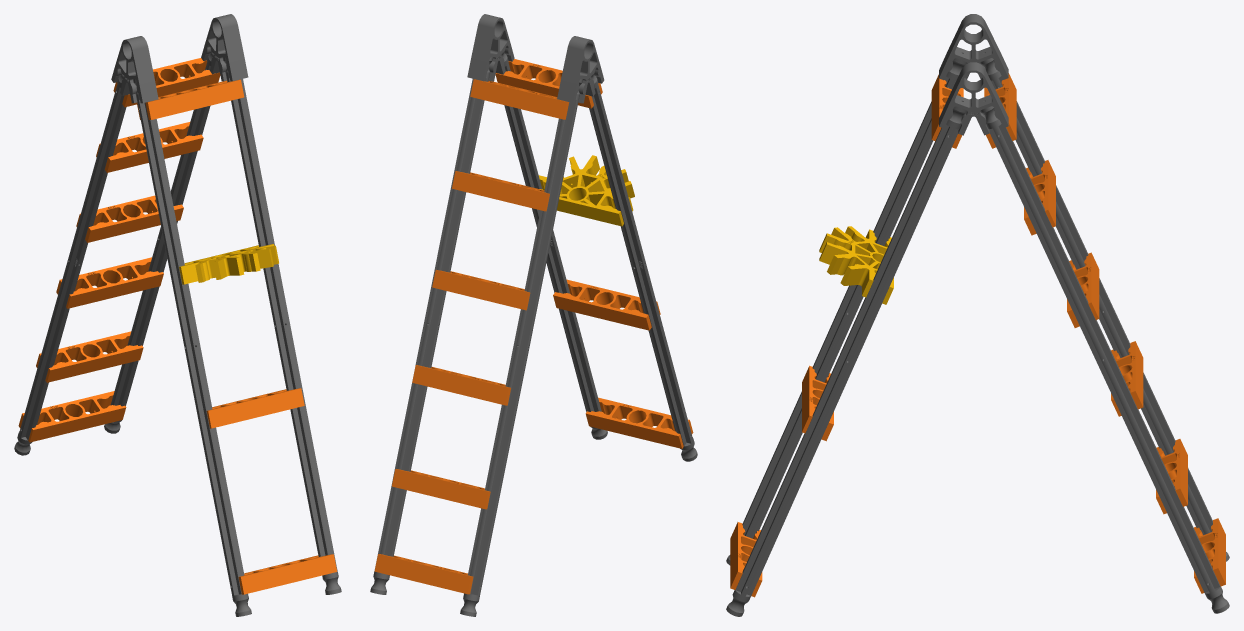
3 views of the same model, side by side, from view 1: azimuth 30°, elevation 25°; view 2: azimuth 150°, elevation 25°; view 3: azimuth 270°, elevation 25° (orthographic). The views are drawn at different scales.
Visible parts, largest first — view 1: Untitled.1494, Untitled.1496, Untitled.1493, Untitled.1495, Untitled.1490, Untitled.1491, Untitled.1492, Untitled.1497, Untitled.1500, Untitled.1501, Untitled.1498, Untitled.1503 (+4 smaller); view 2: Untitled.1493, Untitled.1495, Untitled.1494, Untitled.1496, Untitled.1497, transform1.008, Untitled.1489, Untitled.1498, Untitled.1503, Untitled.1490, Untitled.1492, Untitled.1491 (+4 smaller); view 3: Untitled.1496, Untitled.1495, Untitled.1494, Untitled.1493, Untitled.1497, Untitled.1498, Untitled.1503, Untitled.1492, Untitled.1490, Untitled.1491, Untitled.1489, Untitled.1500 (+4 smaller).
Boxes of the visible parts, box(x1,y1,x2,y2) form: Untitled.1494: box(132, 79, 251, 616); Untitled.1496: box(222, 57, 341, 594); Untitled.1493: box(14, 70, 126, 455); Untitled.1495: box(104, 48, 214, 433); Untitled.1490: box(18, 391, 126, 442); Untitled.1491: box(36, 331, 143, 382); Untitled.1492: box(56, 257, 163, 308); Untitled.1497: box(179, 244, 278, 284); Untitled.1500: box(76, 195, 183, 242); Untitled.1501: box(96, 122, 203, 172); Untitled.1498: box(201, 14, 248, 81); Untitled.1503: box(111, 36, 158, 103); Untitled.1493: box(460, 79, 582, 616); Untitled.1495: box(370, 57, 493, 594); Untitled.1494: box(589, 70, 697, 461); Untitled.1496: box(501, 48, 607, 439); Untitled.1497: box(538, 155, 634, 226); transform1.008: box(553, 279, 660, 330); Untitled.1489: box(585, 397, 693, 448); Untitled.1498: box(467, 14, 514, 81); Untitled.1503: box(557, 36, 604, 103); Untitled.1490: box(374, 554, 473, 594); Untitled.1492: box(412, 365, 510, 405); Untitled.1491: box(392, 469, 490, 509); Untitled.1496: box(726, 106, 967, 616); Untitled.1495: box(980, 106, 1229, 613); Untitled.1494: box(726, 58, 967, 565); Untitled.1493: box(980, 58, 1229, 561); Untitled.1497: box(819, 226, 893, 304); Untitled.1498: box(939, 62, 1008, 135); Untitled.1503: box(939, 14, 1008, 80); Untitled.1492: box(1111, 341, 1143, 416); Untitled.1490: box(1194, 518, 1225, 593); Untitled.1491: box(1156, 439, 1187, 514); Untitled.1489: box(730, 522, 762, 597); Untitled.1500: box(1067, 252, 1099, 327).
Size of the model in its own units: 0.4169 by 1.89 by 1.57.
